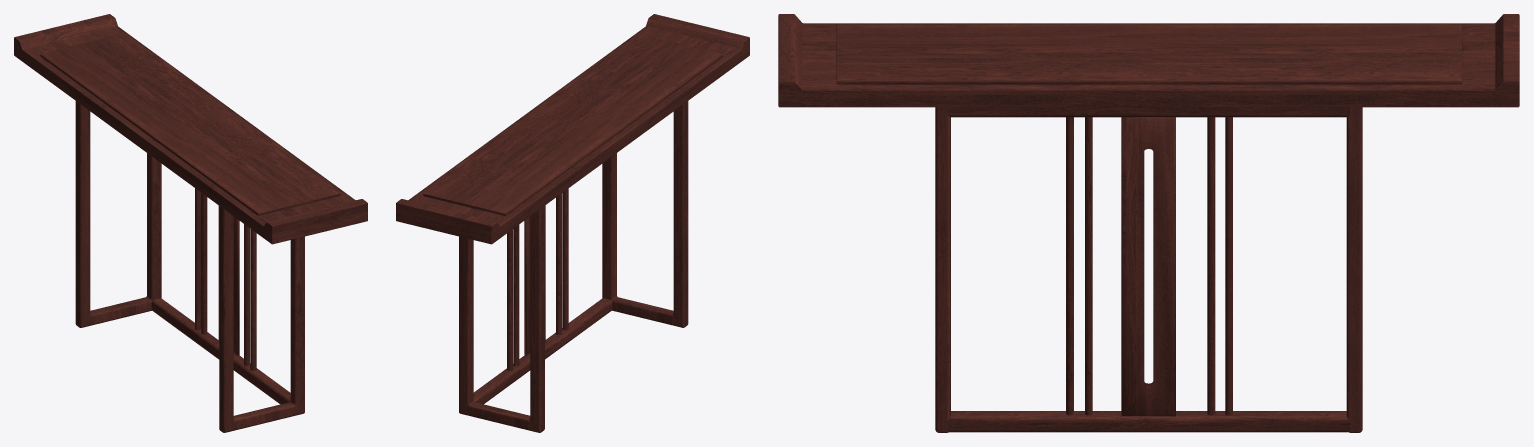
The picture shows the model from 3 angles, left to right: view 1: azimuth 30°, elevation 25°; view 2: azimuth 150°, elevation 25°; view 3: azimuth 270°, elevation 25°; orthographic projection. The views are drawn at different scales.
Visible parts, largest first — view 1: XD-摆台; view 2: XD-摆台; view 3: XD-摆台.
Boxes of the visible parts, x1,y1,x2,y2 form: XD-摆台: (14, 14, 367, 432); XD-摆台: (396, 14, 749, 432); XD-摆台: (778, 14, 1519, 432).
Bounding box in the file's own units: 0.35 × 1.63 × 0.8691.
